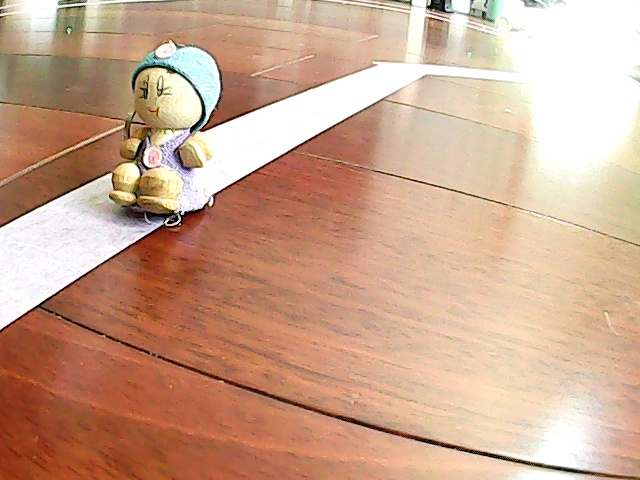pedestrain: (112, 43, 221, 221)
